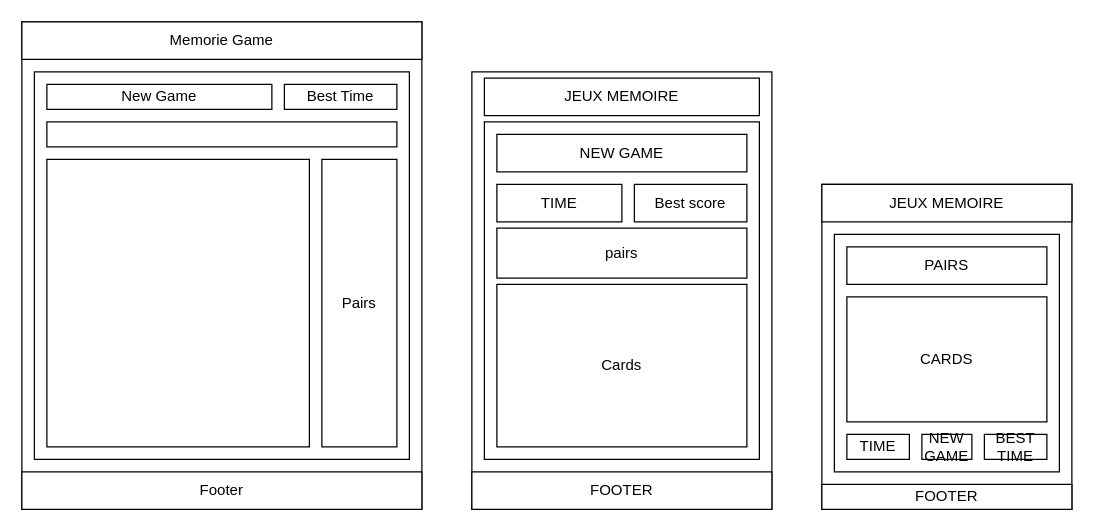
Image size: 1094x531. Some labels were removed from this diagram. Here are the shapes that lost their labels. From the top down, the centre of each, then its label:
At [221,134]: "YOUR TIME".
At [177,302]: "Cards BackSide".
